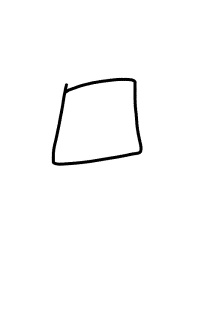Square: (48, 74, 145, 168)
